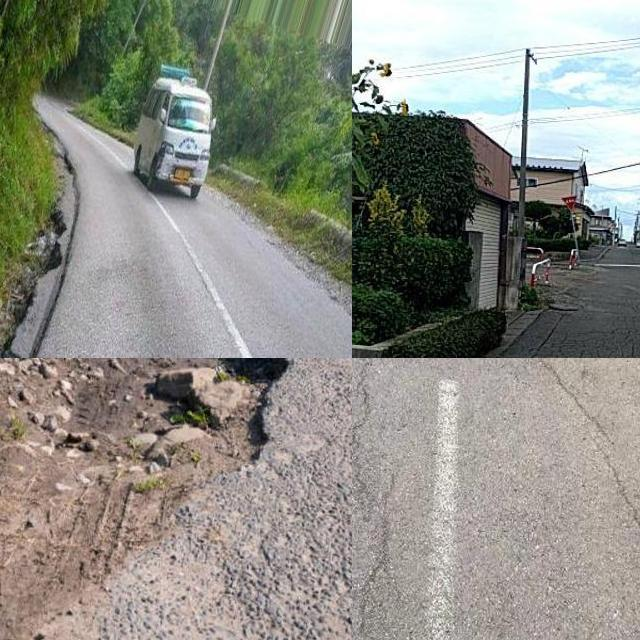Memanjang: (517, 358, 640, 559), (352, 358, 407, 640)
Pinggir: (112, 358, 296, 526), (0, 165, 95, 358)
